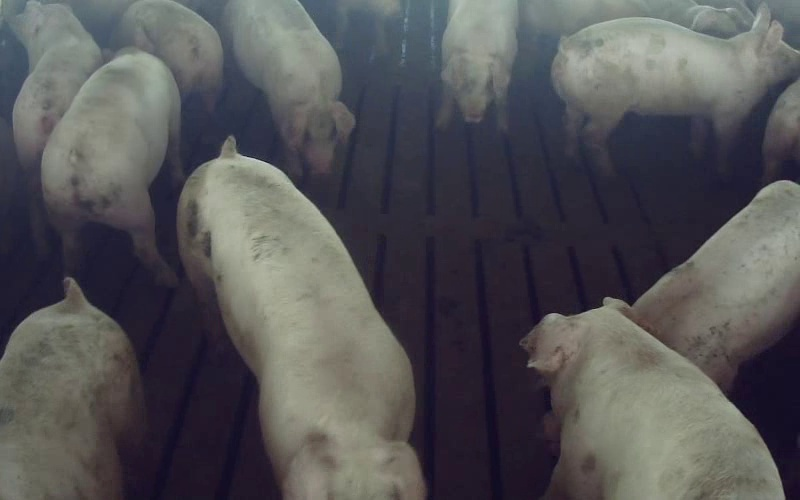pig: (178, 138, 424, 499), (521, 301, 783, 499), (551, 5, 799, 173), (632, 181, 799, 390), (41, 47, 182, 286), (0, 278, 142, 499), (9, 0, 102, 255), (117, 0, 222, 112), (437, 0, 516, 131)
